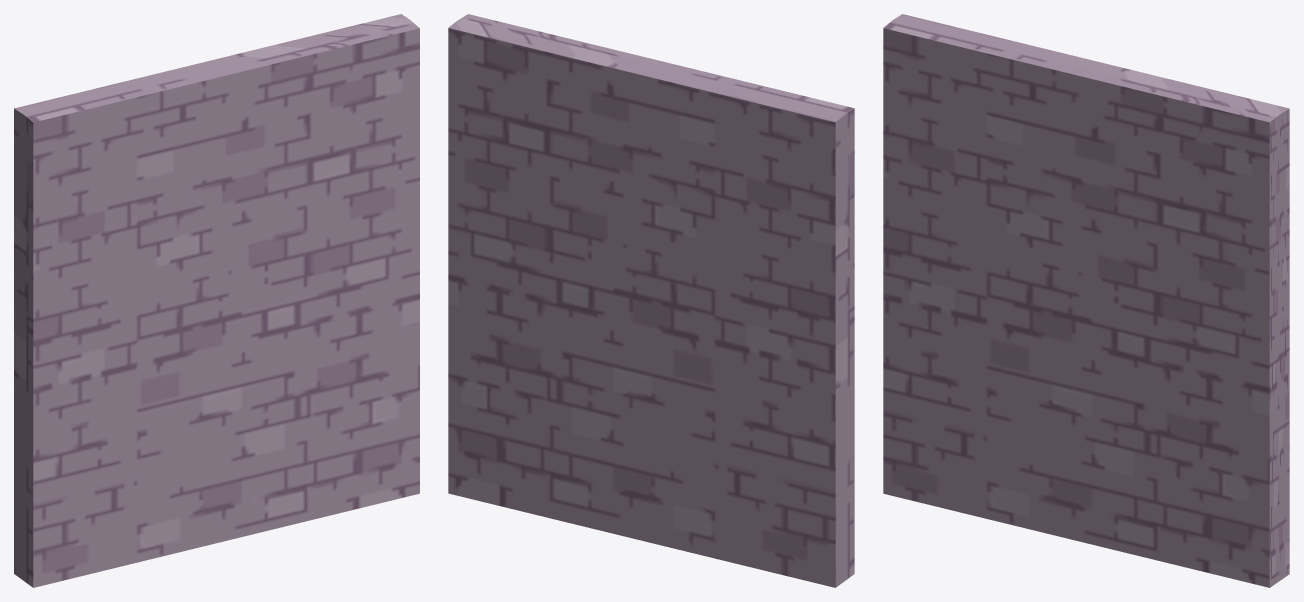
File: House_Wall_02_edit.fbx
The picture shows the model from 3 angles, left to right: view 1: azimuth 30°, elevation 25°; view 2: azimuth 150°, elevation 25°; view 3: azimuth 330°, elevation 25°; orthographic projection.
Parts seen in each view (by area): view 1: SM_Bld_Base_Wall_Corner_01.001; view 2: SM_Bld_Base_Wall_Corner_01.001; view 3: SM_Bld_Base_Wall_Corner_01.001.
Boxes of the visible parts, x1,y1,x2,y2 form: SM_Bld_Base_Wall_Corner_01.001: (14,14,419,587); SM_Bld_Base_Wall_Corner_01.001: (448,14,854,587); SM_Bld_Base_Wall_Corner_01.001: (883,14,1289,587).
Size of the model in its own units: 261 by 301 by 22.5.
